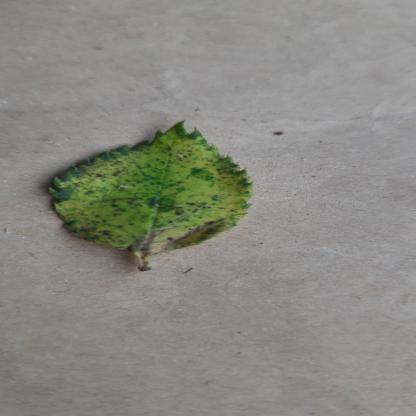black-spot: (47, 121, 267, 253)
